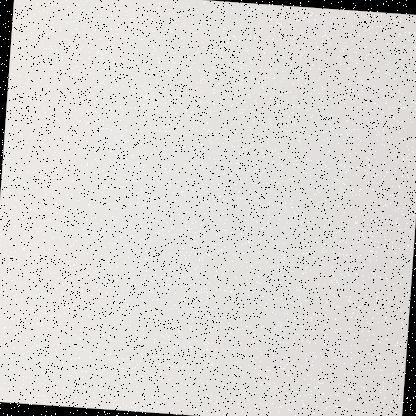Nocrack: (0, 1, 415, 411)
